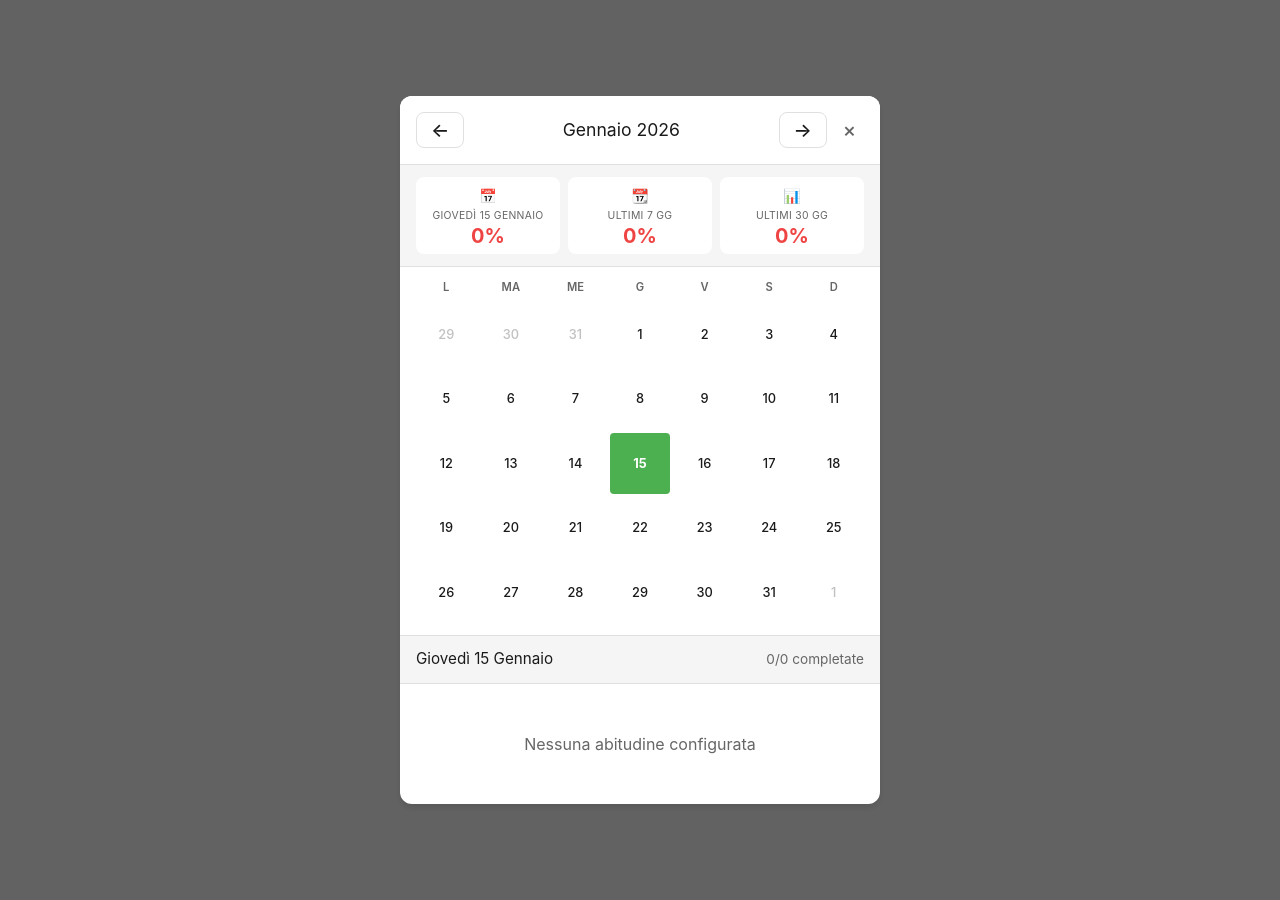
Scenario: DayView - interazioni › should navigate to previous month when clicking ←
Click the button titled "Mese precedente": (440, 130) [416, 112, 464, 148]
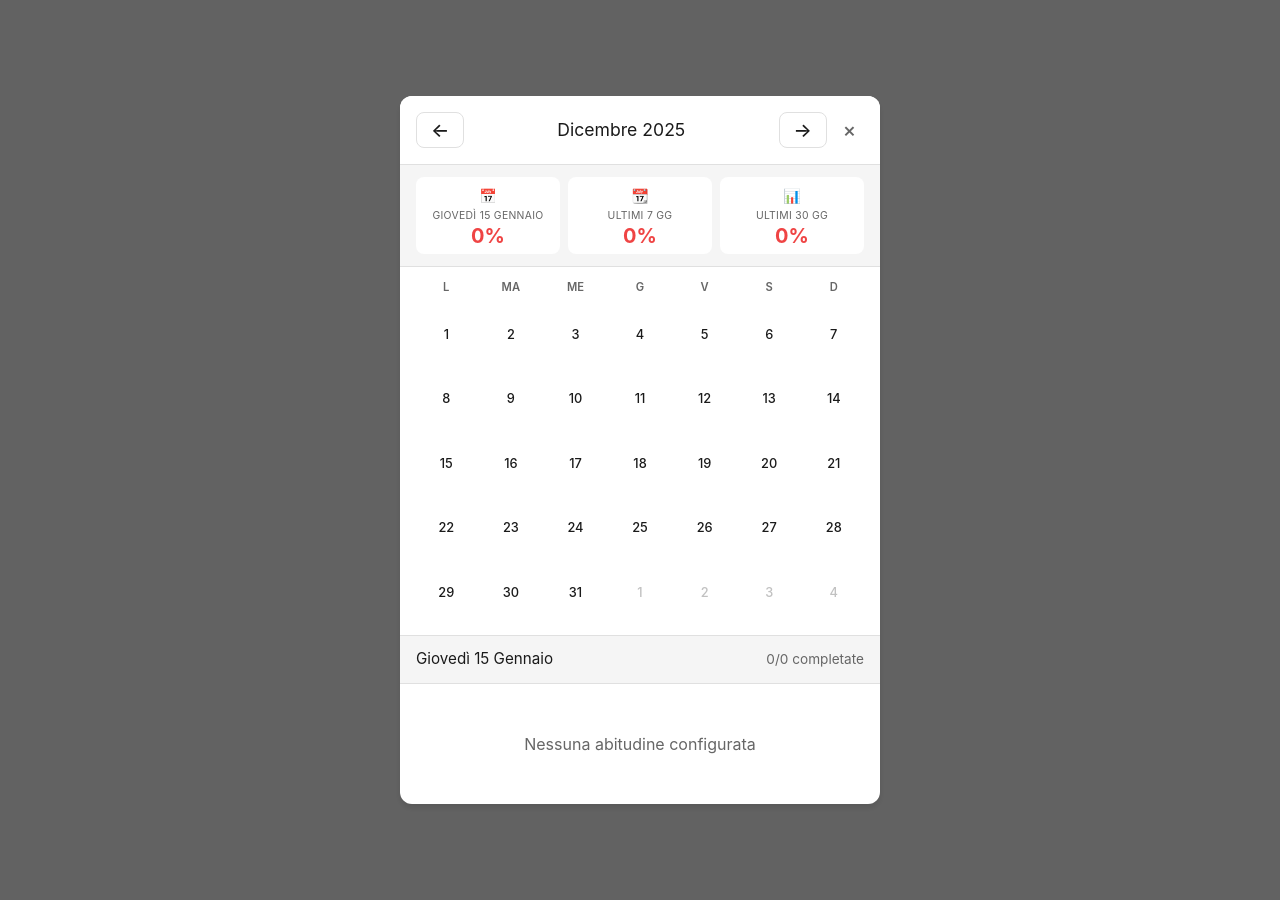
Expected: the heading "Dicembre 2025" is shown, [557, 119, 685, 140]
